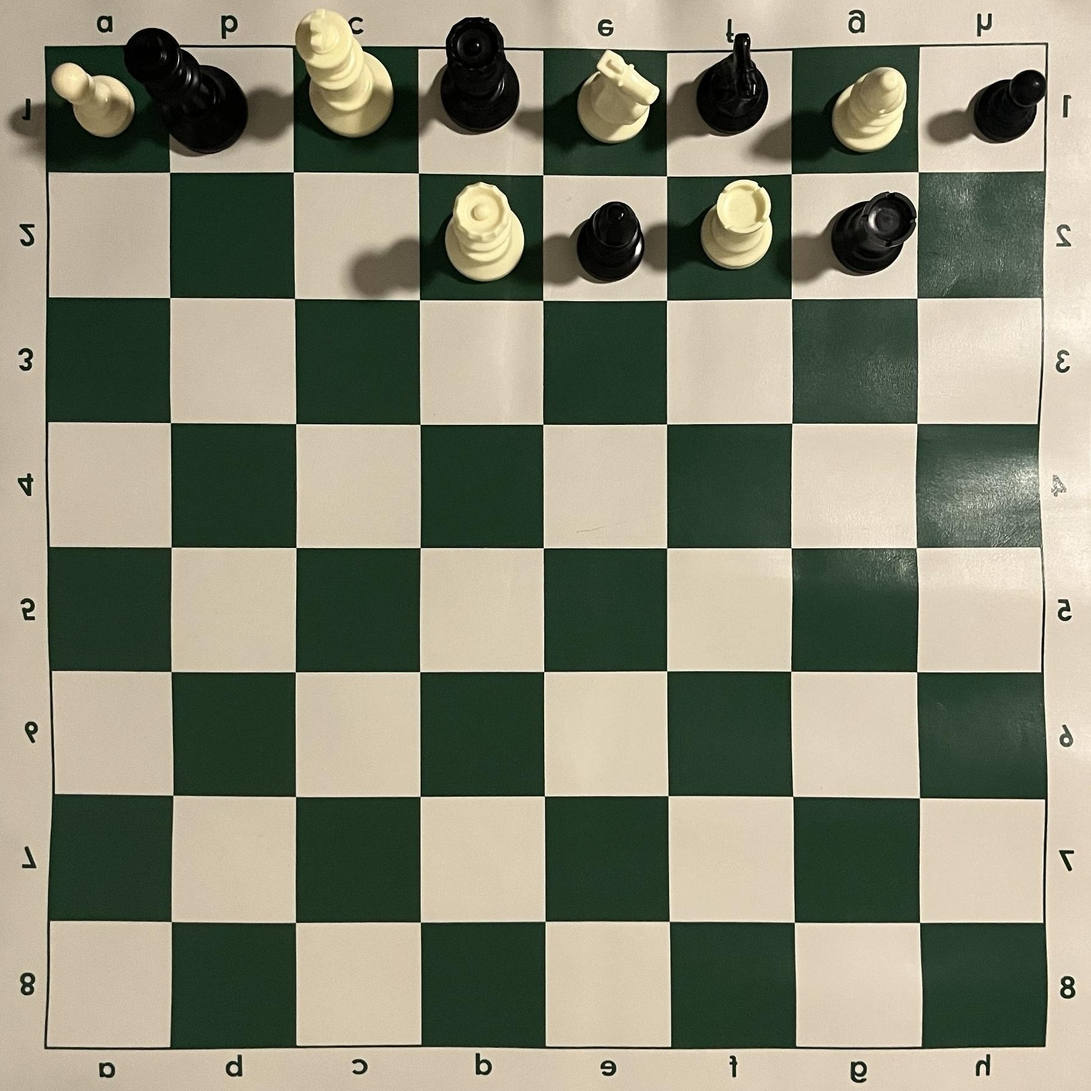black_bishop: (576, 201, 645, 285)
black_king: (123, 27, 249, 155)
black_knight: (695, 32, 769, 137)
black_pawn: (973, 69, 1047, 144)
black_queen: (440, 16, 521, 136)
black_rook: (829, 191, 918, 276)
white_bishop: (830, 66, 908, 154)
white_king: (294, 8, 394, 140)
white_knight: (577, 49, 660, 144)
white_pawn: (51, 62, 135, 137)
white_queen: (444, 181, 526, 283)
white_rook: (700, 179, 773, 271)
